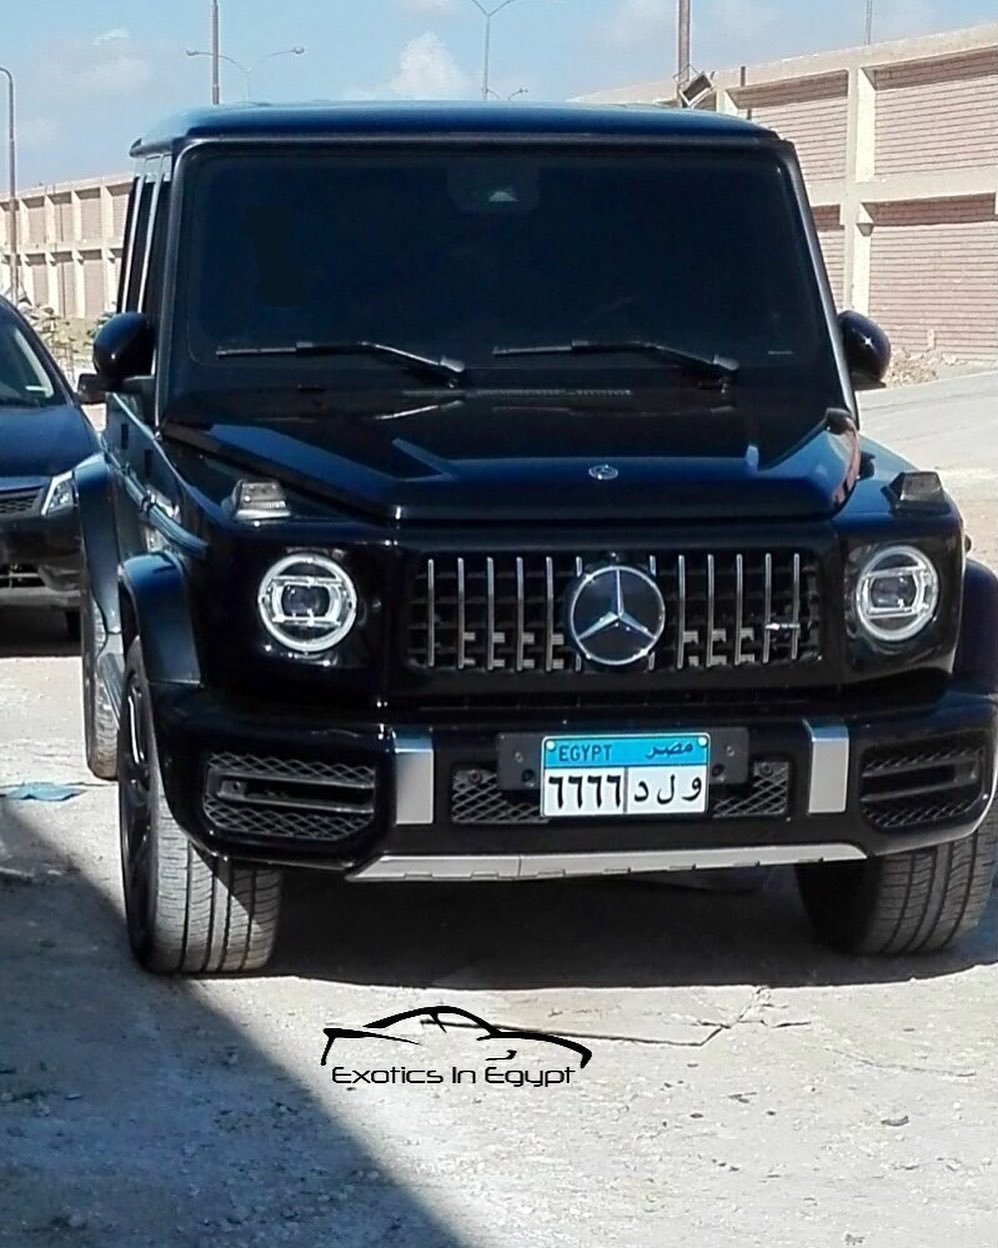carpl: (526, 722, 715, 825)
